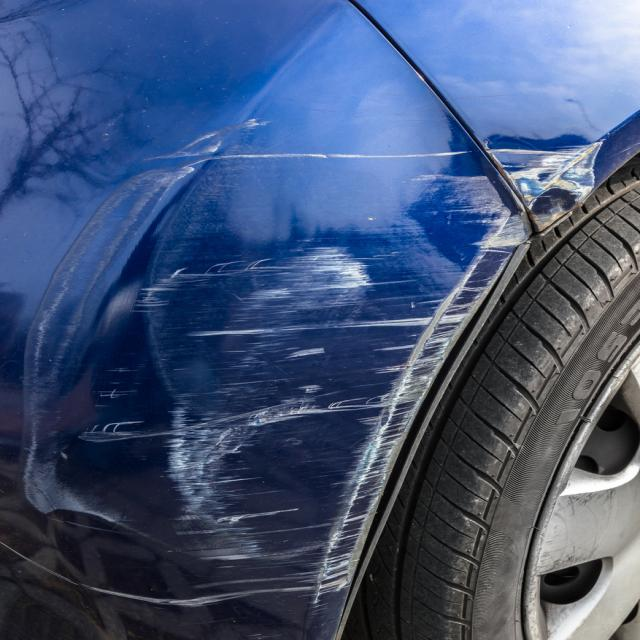dent: (486, 134, 600, 231)
scratch: (0, 115, 532, 611)
